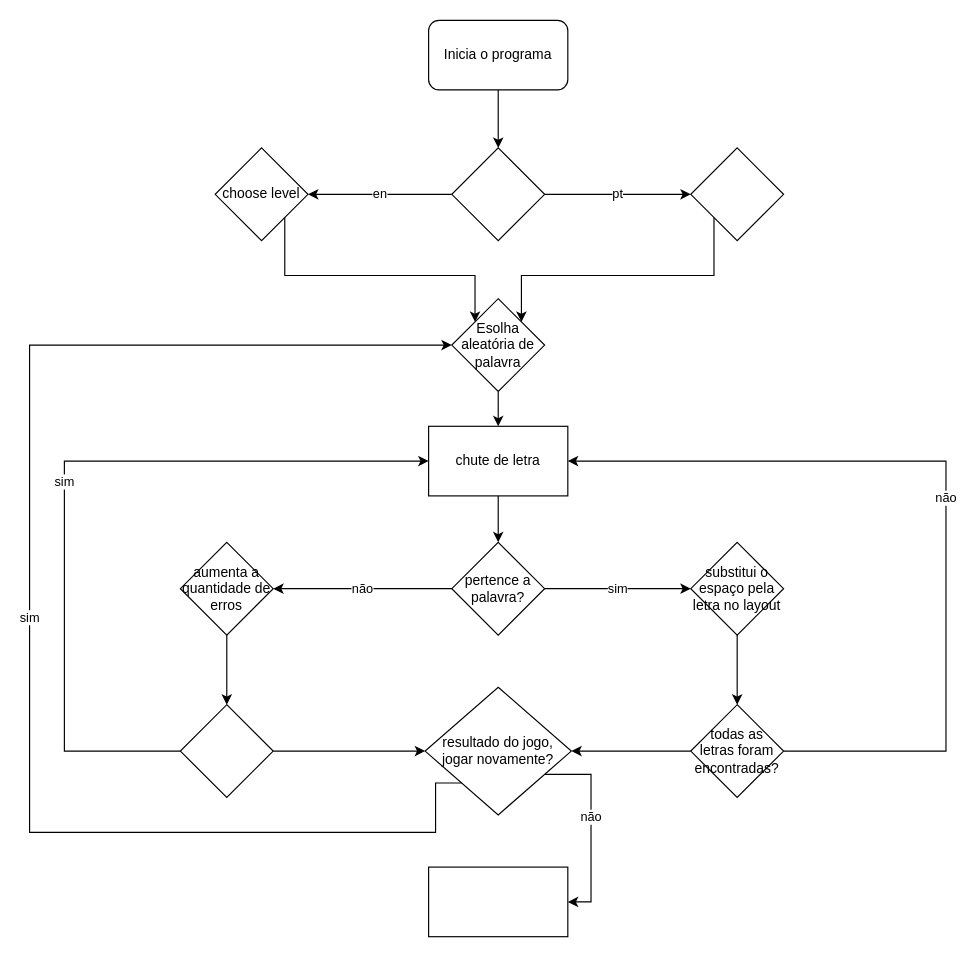
Some shapes in this 977 by 957 pixel diagram are drawn without their labels. The shapes that lost their labels are listed below. From the top down, each one's box as (x1, y1, x2, y2) in pixels, then its label:
(451, 147, 545, 241): Escolhe língua
(690, 147, 784, 241): Escolhe o niível
(179, 704, 273, 798): erros<6
(427, 866, 568, 937): finaliza o jogo
